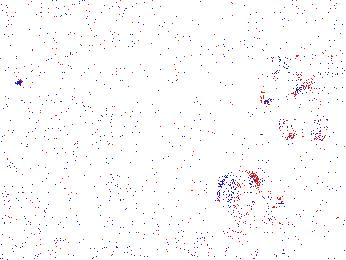flame jellyfish: (216, 169, 286, 220), (260, 64, 303, 141), (1, 172, 37, 235)
